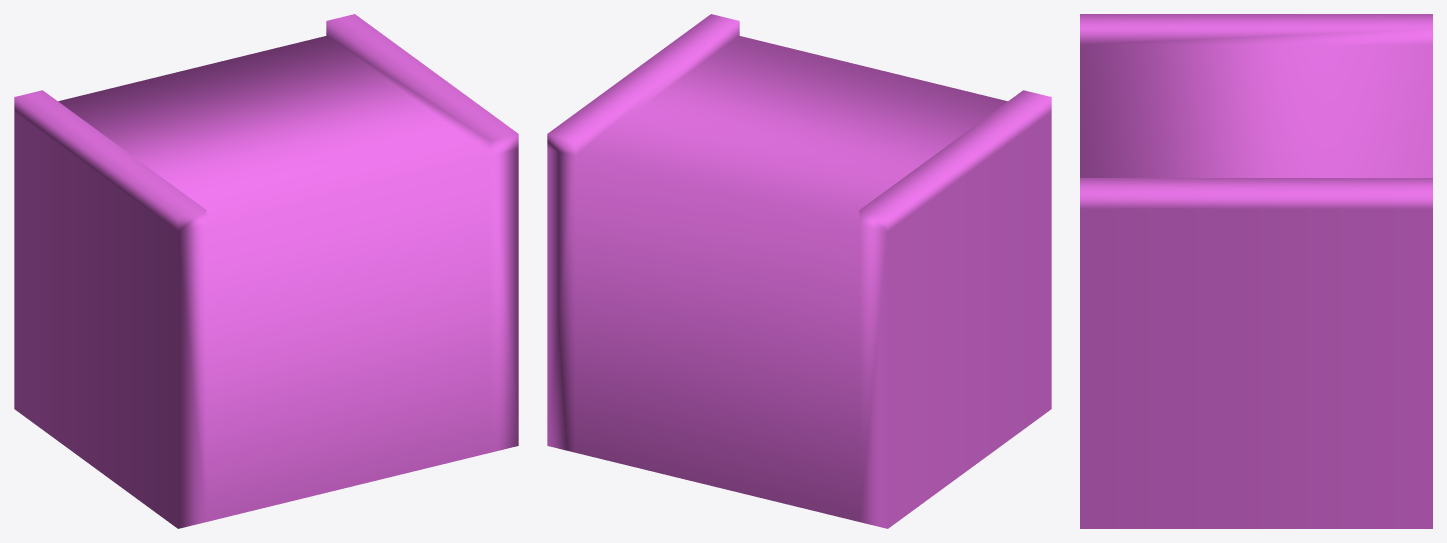
3 renders of one model, left to right at view 1: azimuth 30°, elevation 25°; view 2: azimuth 150°, elevation 25°; view 3: azimuth 270°, elevation 25°, orthographic. The views are drawn at different scales.
Parts seen in each view (by area): view 1: Mesh; view 2: Mesh; view 3: Mesh.
Boxes of the visible parts, x1,y1,x2,y2 form: Mesh: [14, 14, 518, 528]; Mesh: [547, 14, 1051, 528]; Mesh: [1080, 14, 1432, 528].
Bounding box in the file's own units: 480 × 420 × 400.
